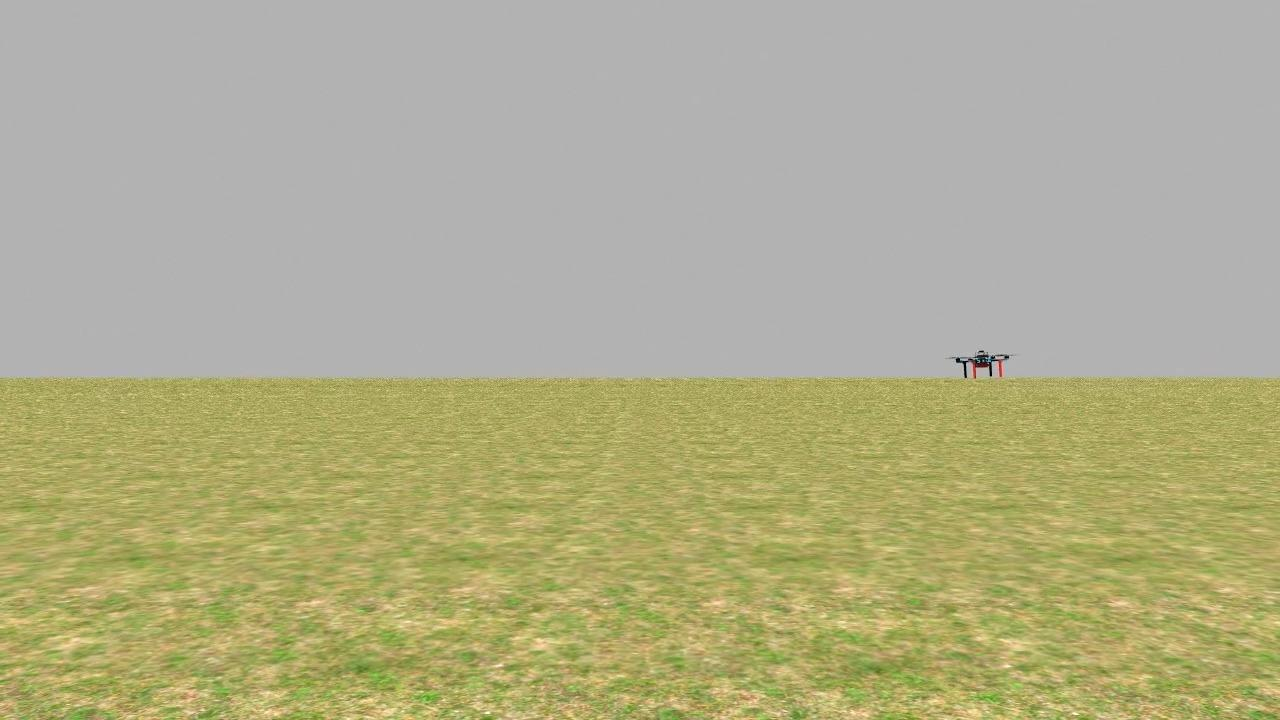UAV: (943, 342, 1019, 389)
